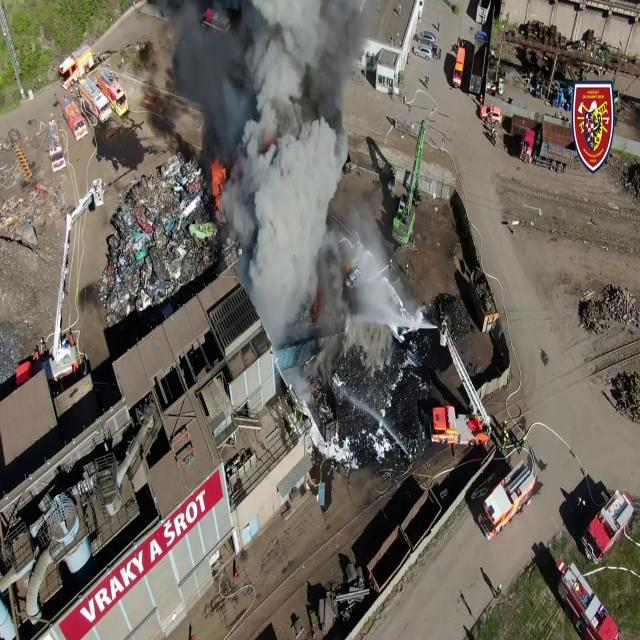Fire: (208, 150, 228, 212)
Smoke: (180, 0, 370, 340)
